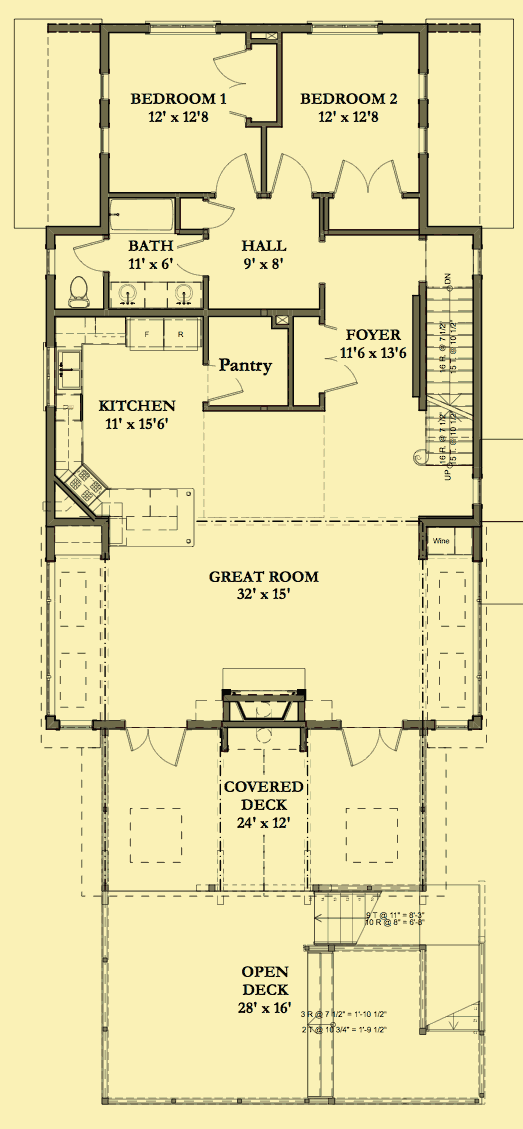door: (328, 155, 404, 202), (330, 724, 407, 766), (267, 148, 319, 204), (126, 719, 187, 766), (208, 149, 259, 204), (69, 238, 110, 274)
large_sink: (59, 272, 98, 309)
small_sink: (111, 275, 209, 309)
stairs: (413, 276, 488, 470), (304, 880, 390, 949)
twin_sink: (54, 344, 89, 398)
window: (140, 16, 221, 38), (294, 15, 383, 35)
